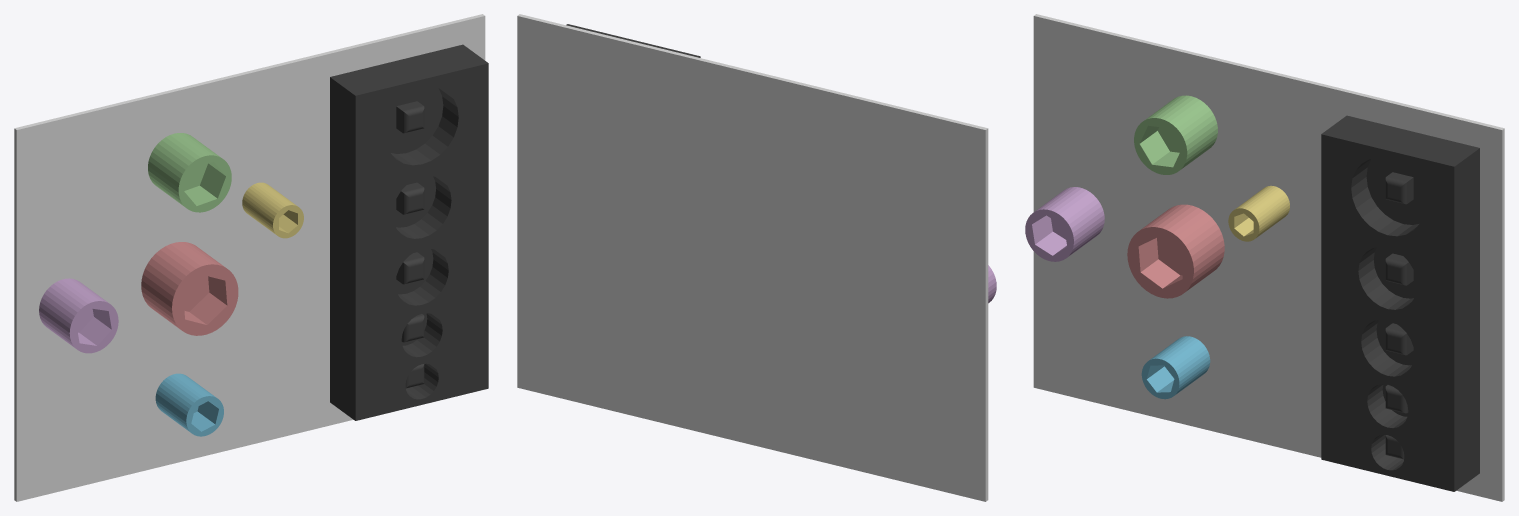
File: pickup_layout.glb
3 views of the same model, side by side, from view 1: azimuth 30°, elevation 25°; view 2: azimuth 150°, elevation 25°; view 3: azimuth 330°, elevation 25° (orthographic).
Parts seen in each view (by area): view 1: world, 0.obj, 5.obj, 4.obj, 3.obj, 2.obj, 1.obj; view 2: world; view 3: world, 0.obj, 5.obj, 4.obj, 3.obj, 2.obj, 1.obj.
Boxes of the visible parts, left/top/right/bottom form: world: left=14, top=14, right=485, bottom=501; 0.obj: left=330, top=44, right=488, bottom=420; 5.obj: left=141, top=242, right=238, bottom=335; 4.obj: left=148, top=133, right=231, bottom=212; 3.obj: left=39, top=278, right=118, bottom=353; 2.obj: left=155, top=373, right=223, bottom=436; 1.obj: left=242, top=182, right=303, bottom=238; world: left=517, top=14, right=988, bottom=501; world: left=1033, top=14, right=1504, bottom=501; 0.obj: left=1321, top=115, right=1479, bottom=491; 5.obj: left=1127, top=204, right=1224, bottom=298; 4.obj: left=1134, top=95, right=1217, bottom=174; 3.obj: left=1025, top=187, right=1104, bottom=261; 2.obj: left=1141, top=336, right=1210, bottom=399; 1.obj: left=1228, top=185, right=1289, bottom=241.
Size of the model in its own units: 21.1 by 16 by 2.6.
1 material, 1 textured.
